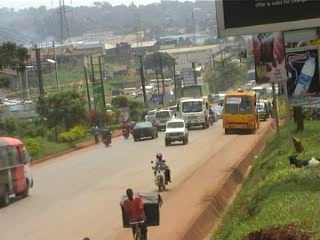Car: (162, 116, 190, 146), (132, 118, 159, 142), (207, 102, 223, 120)
Motorcycle: (149, 150, 172, 193), (99, 125, 113, 147), (119, 118, 130, 140), (206, 105, 217, 127)
